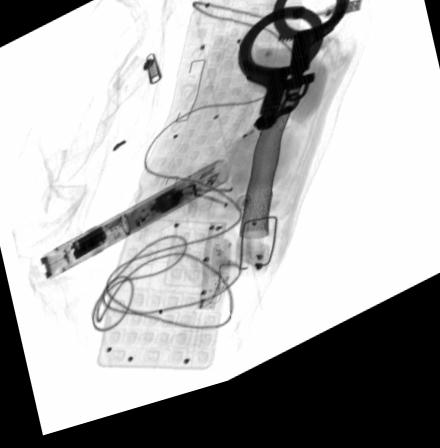Baton: (39, 170, 231, 284)
HandCuffs: (236, 0, 352, 147)
